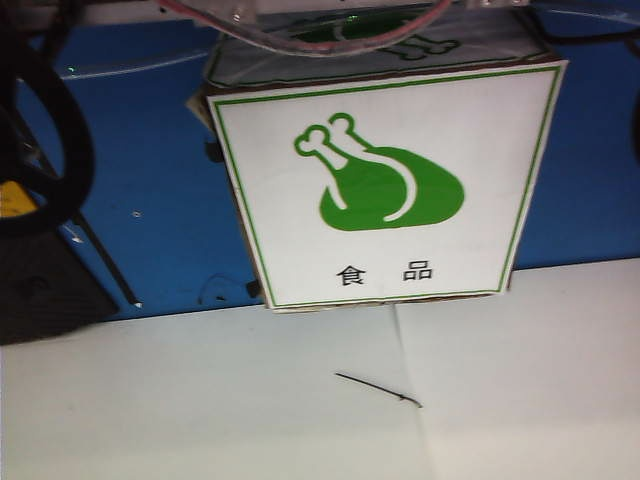Cube_food: (287, 106, 470, 290)
